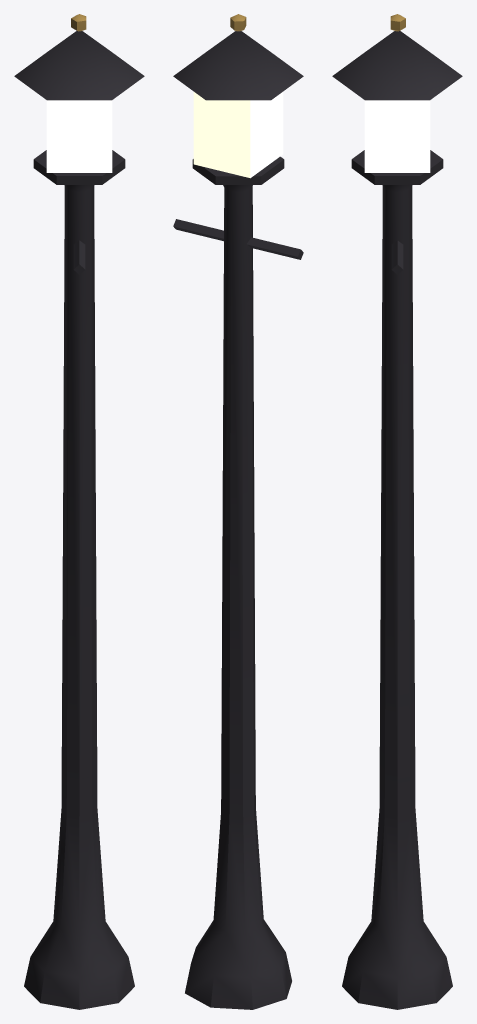
The model's file is curb_lamp_post.glb.
3 views of the same model, side by side, from view 1: azimuth 90°, elevation 25°; view 2: azimuth 150°, elevation 25°; view 3: azimuth 270°, elevation 25° (orthographic).
Parts seen in each view (by area): view 1: curb_lamp_post, glow; view 2: curb_lamp_post, glow; view 3: curb_lamp_post, glow.
Boxes of the visible parts, x1=… form: curb_lamp_post: x1=14, y1=14, x2=144, y2=1009; glow: x1=46, y1=100, x2=112, y2=172; curb_lamp_post: x1=173, y1=14, x2=303, y2=1009; glow: x1=193, y1=92, x2=283, y2=178; curb_lamp_post: x1=332, y1=14, x2=462, y2=1009; glow: x1=364, y1=100, x2=430, y2=172.
Bounding box in the file's own units: 0.44 × 3.28 × 0.4.
